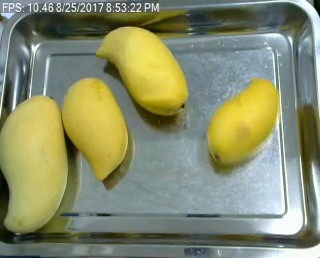Mango: (0, 94, 70, 235), (94, 24, 190, 119), (61, 72, 131, 183), (204, 77, 281, 164)
